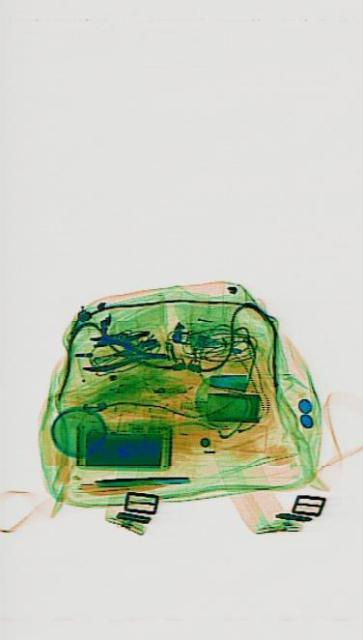Pliers: (80, 336, 168, 370)
